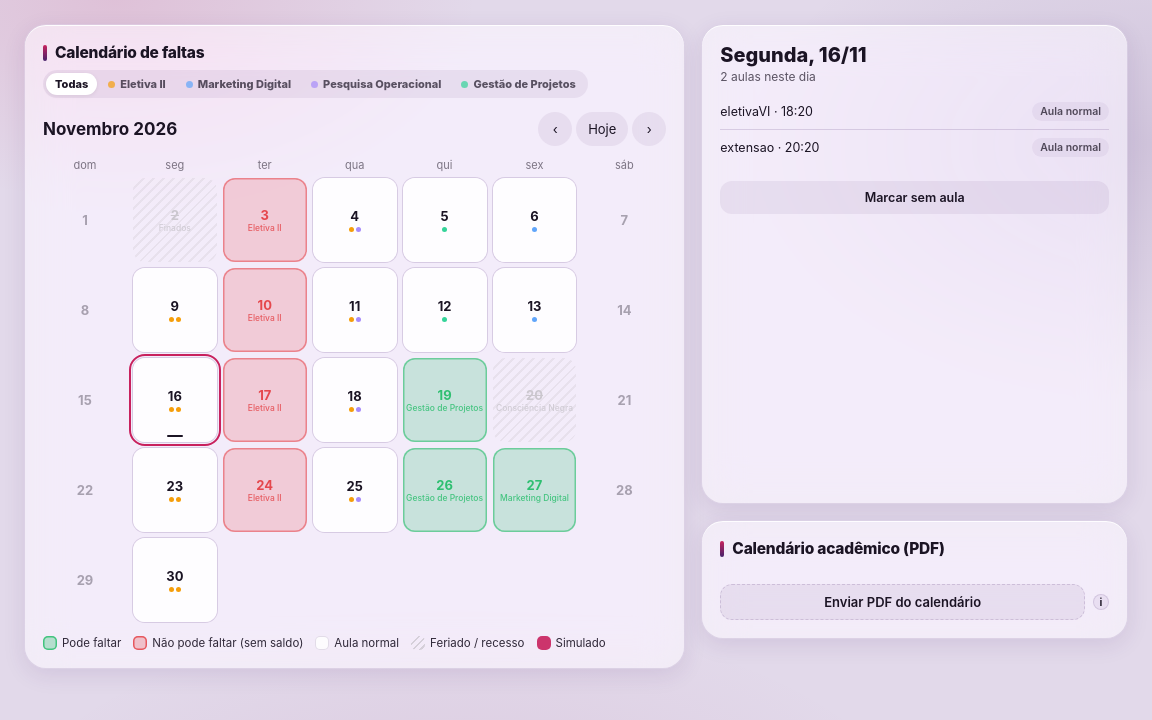
Scenario: Calendário page › renders the month, holiday cell, day detail and next month
Expected: the text "Novembro 2026" is shown, [43, 119, 177, 139]
Step 1. Click the button "17 Eletiva II" → [265, 400], box [223, 358, 307, 442]
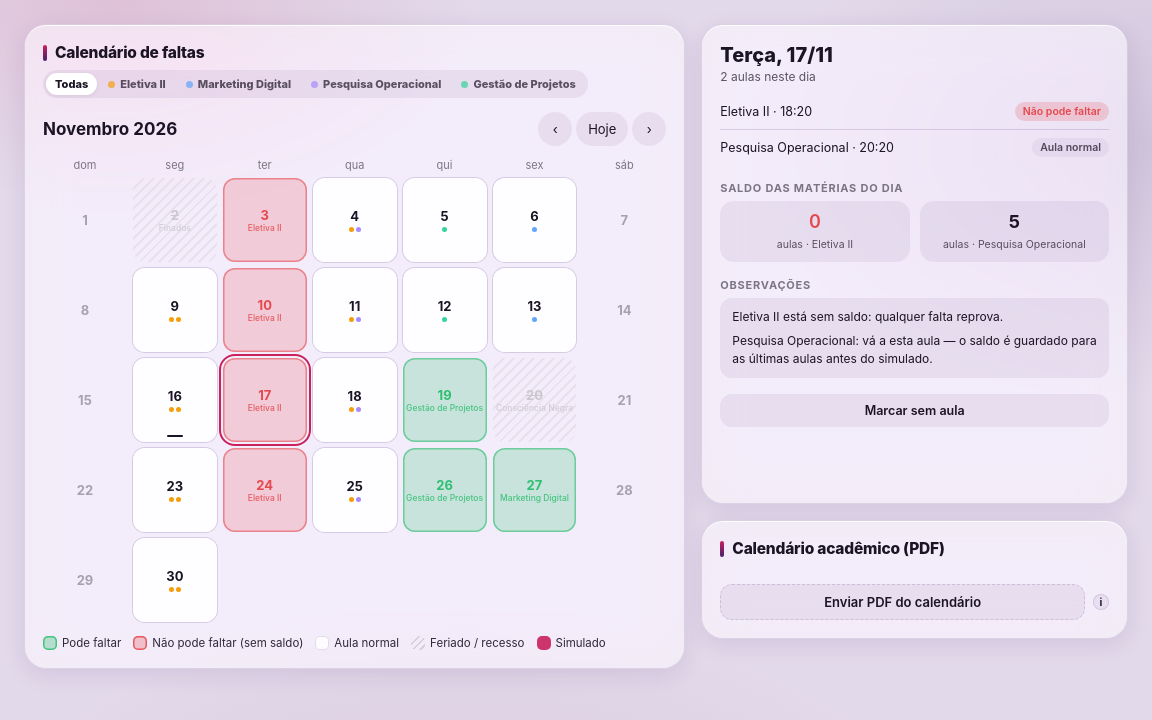
Now the text "Eletiva II está sem saldo: qualquer falta reprova." is shown, box [732, 309, 1003, 324]
Now the text "Eletiva II · 18:20" is shown, box [720, 104, 812, 119]
Step 2. Click the button named "Próximo mês" → [649, 129], box [632, 112, 666, 146]
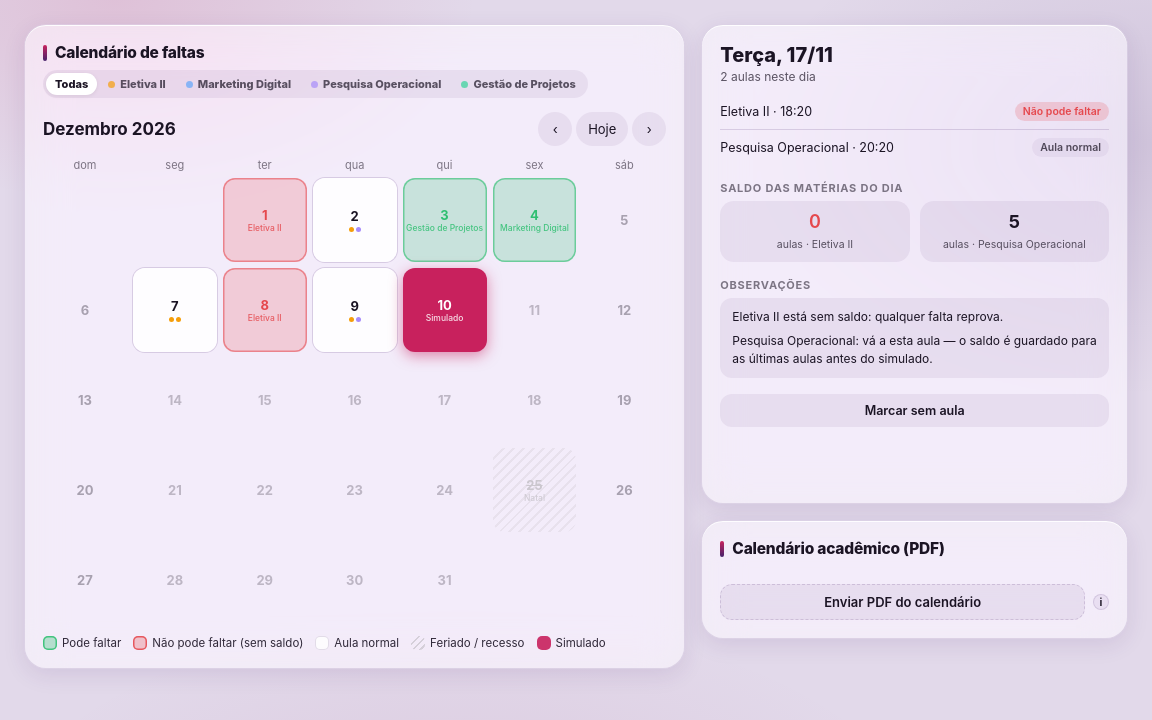
Now the text "Dezembro 2026" is shown, box [43, 119, 176, 139]
Step 3. Click the button "Hoje" → [602, 129], box [576, 112, 628, 146]
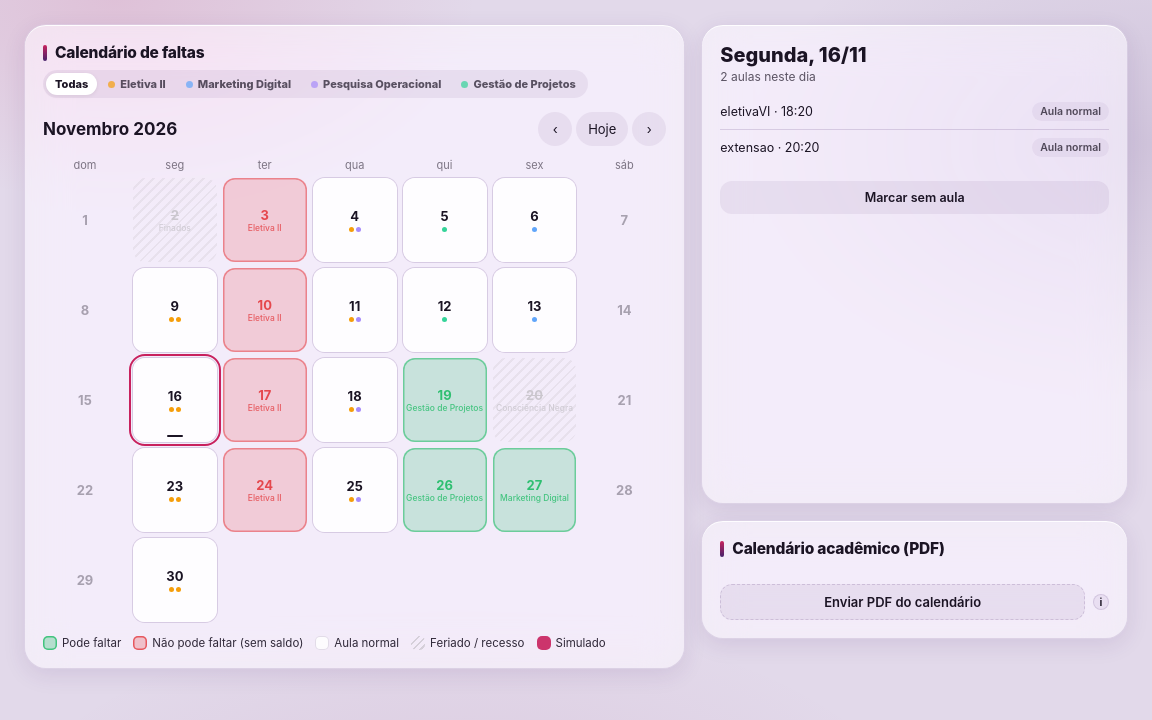
Now the text "Novembro 2026" is shown, box [43, 119, 177, 139]
